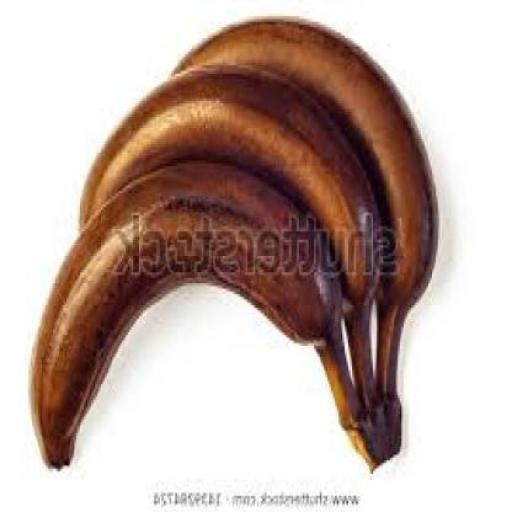biodegradable: (80, 58, 388, 452), (175, 14, 440, 449), (33, 156, 381, 466)
